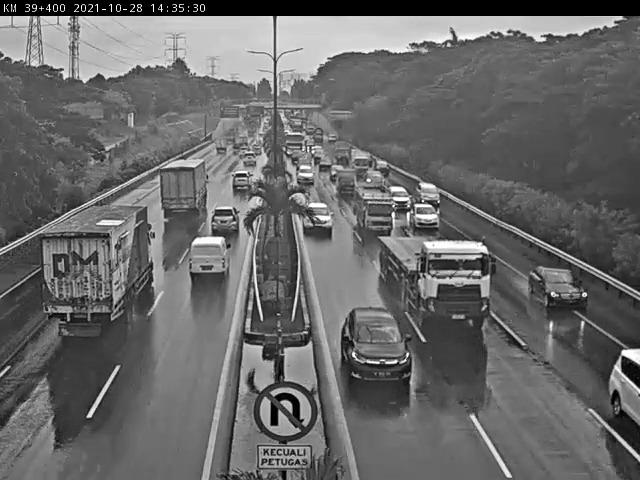big truck: (39, 206, 153, 331), (381, 235, 492, 327), (163, 160, 210, 213)
car: (341, 307, 415, 388), (524, 264, 585, 311), (615, 334, 640, 423), (191, 236, 233, 284), (302, 200, 332, 231), (209, 205, 242, 233), (411, 204, 441, 229), (389, 185, 409, 209), (229, 170, 251, 191), (418, 184, 439, 202), (365, 170, 384, 185), (298, 166, 313, 182), (374, 160, 388, 172), (243, 152, 255, 164), (330, 164, 340, 176), (292, 150, 302, 161), (319, 156, 329, 167), (314, 149, 323, 159)
small truck: (353, 184, 394, 234), (338, 169, 356, 194), (352, 151, 370, 174)
